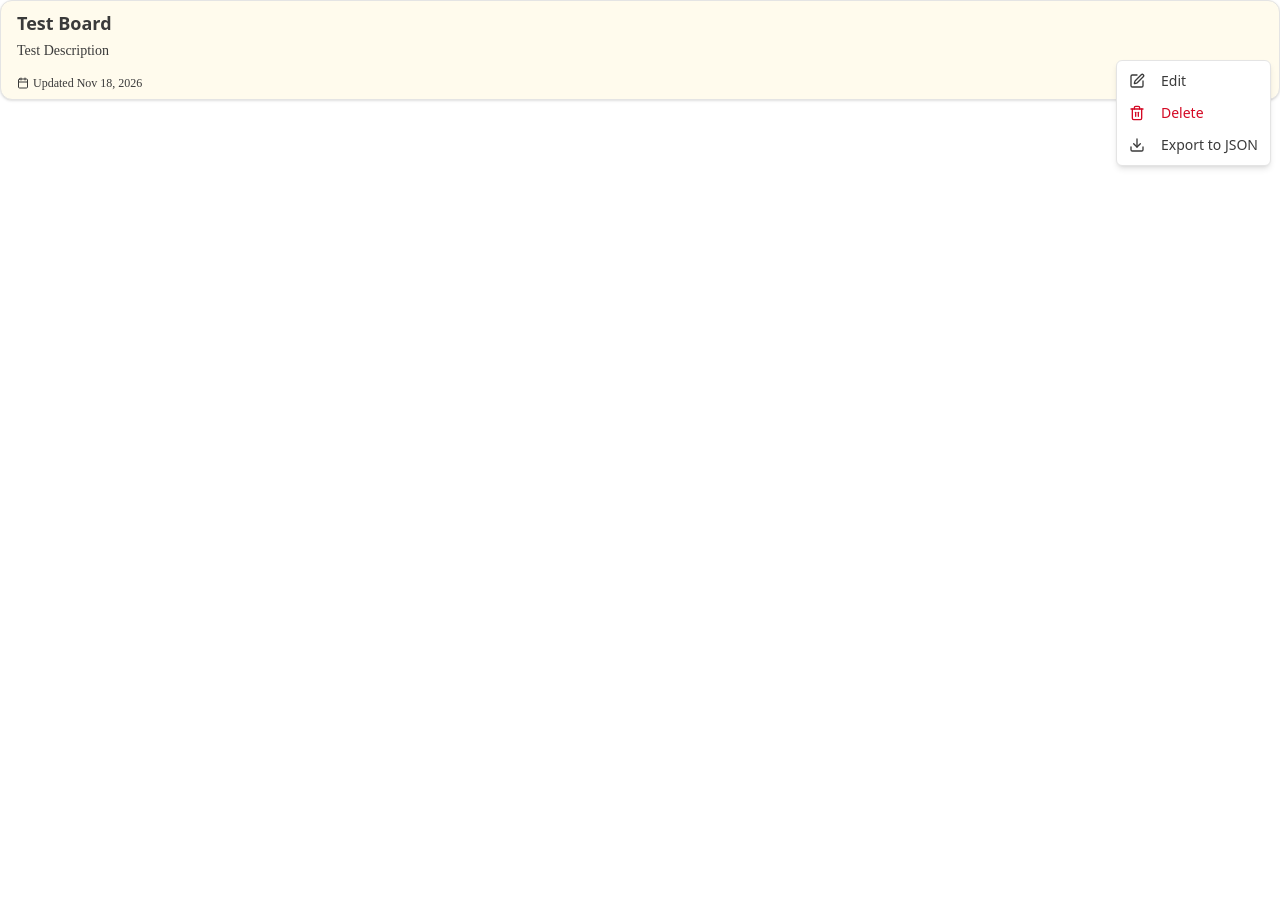
BoardCard › should show delete dialog when delete is clicked
Earlier steps of the test are not shown.
Later steps or results of the test are not shown.
Click the menu item "Delete": (1166, 112) [1129, 103, 1204, 122]
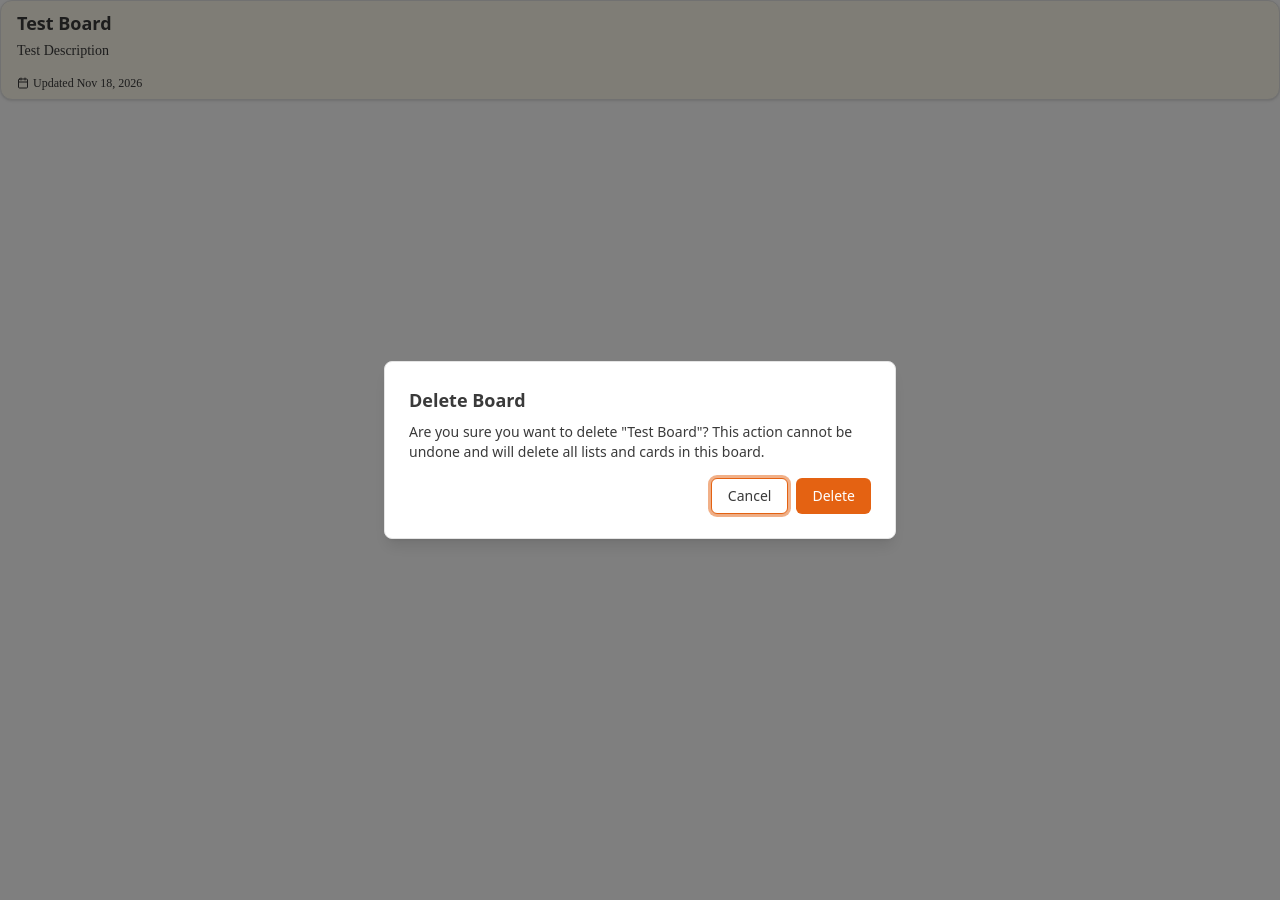
Result: the text "Are you sure" is shown at [409, 422, 852, 461]
